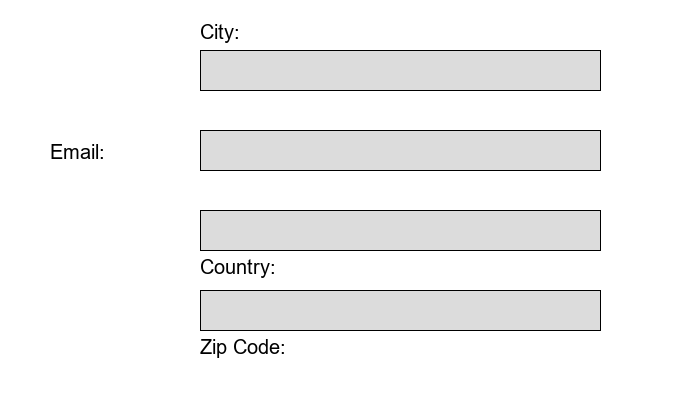Label: (200, 335, 280, 354), (200, 255, 270, 274), (50, 140, 99, 155), (200, 20, 234, 39)
Textbox: (200, 50, 600, 90), (200, 130, 600, 170), (200, 210, 600, 250), (200, 290, 600, 330)
